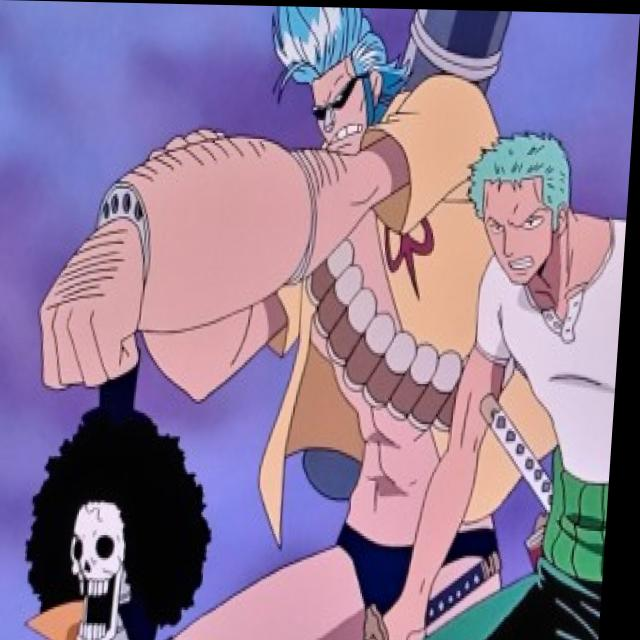Blook: (22, 402, 231, 640)
Franky: (261, 5, 400, 155)
Zoro: (470, 123, 580, 286)
